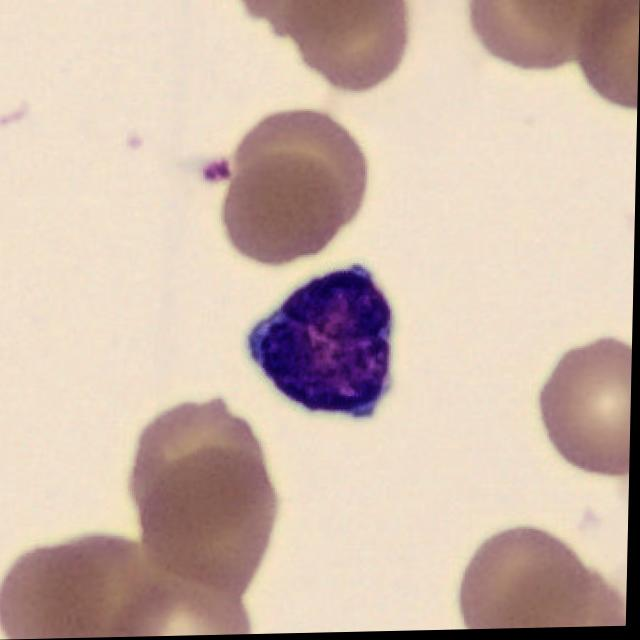Linfocito: (246, 269, 395, 418)
